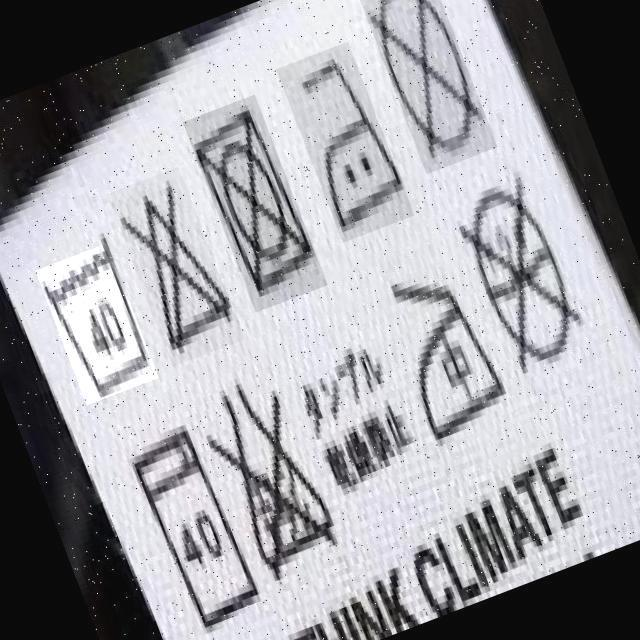40C: (123, 453, 260, 623), (56, 244, 144, 400)
DN_bleach: (142, 194, 231, 355)
DN_dry_clean: (375, 1, 502, 158), (473, 182, 573, 357)
DN_tumble_dry: (198, 111, 292, 270)
iron: (393, 285, 521, 421)
iron_medium: (296, 63, 403, 223)
